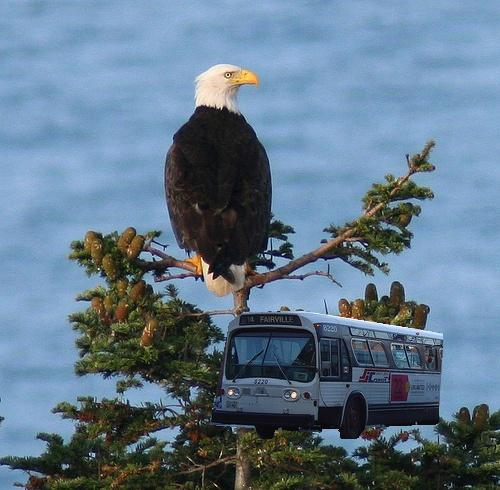tampered: (210, 312, 443, 439)
